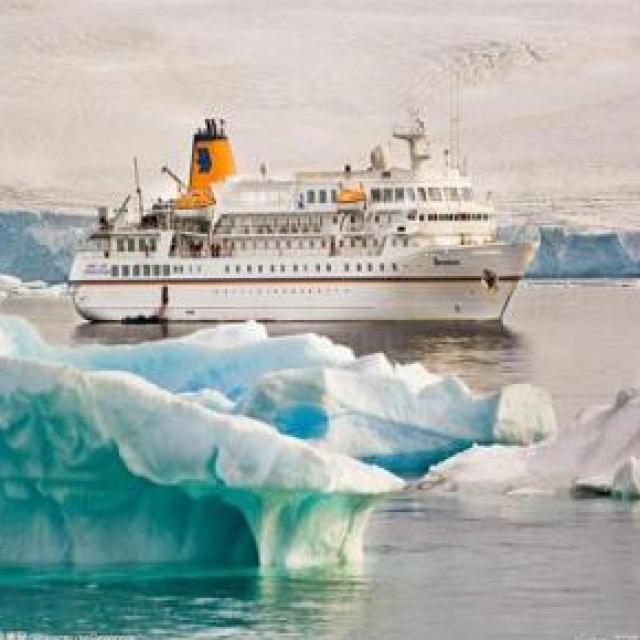passenger ship: (68, 114, 532, 326)
